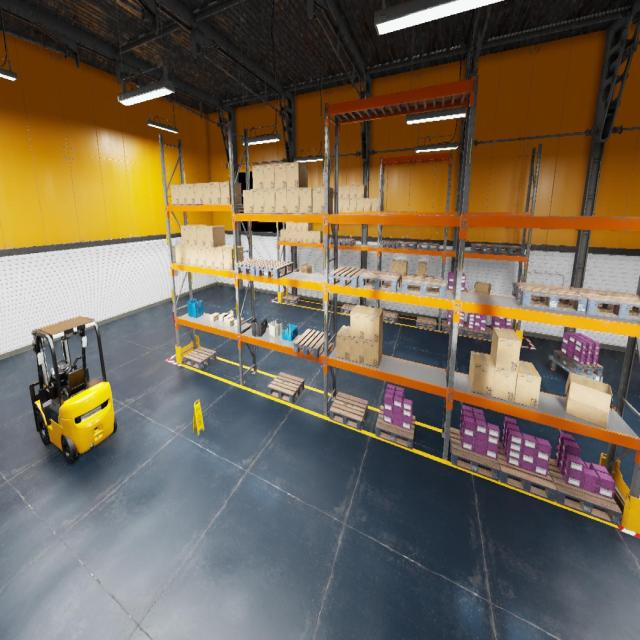box: (565, 372, 613, 429), (490, 327, 521, 372), (514, 361, 541, 408), (490, 355, 517, 402), (468, 351, 494, 396), (364, 307, 383, 342), (350, 305, 369, 339), (364, 333, 382, 368), (286, 162, 308, 188), (312, 187, 333, 213), (220, 181, 242, 204), (336, 325, 350, 360), (223, 246, 243, 270), (204, 226, 225, 247), (196, 225, 215, 246), (214, 246, 232, 268), (349, 337, 364, 363), (180, 224, 199, 244), (188, 226, 205, 246), (299, 188, 312, 214), (275, 188, 287, 214), (287, 188, 299, 213), (274, 163, 286, 188), (263, 164, 275, 189), (252, 165, 263, 189), (264, 189, 275, 213), (242, 190, 254, 212), (253, 190, 264, 212), (474, 281, 491, 294), (210, 182, 220, 204), (185, 184, 196, 204), (205, 247, 215, 267), (202, 182, 211, 204), (194, 183, 203, 205), (170, 184, 179, 204), (178, 184, 186, 204), (198, 246, 206, 266), (190, 245, 198, 265), (182, 244, 190, 264), (175, 243, 183, 263), (398, 260, 408, 276), (418, 262, 427, 276), (390, 260, 400, 272), (357, 185, 366, 198), (224, 310, 233, 322), (300, 264, 312, 273), (314, 230, 322, 243), (371, 198, 379, 211), (356, 198, 364, 211), (342, 185, 350, 198), (408, 274, 417, 285), (426, 275, 434, 287), (308, 230, 316, 242), (364, 198, 371, 211), (349, 198, 356, 211), (349, 185, 356, 198), (226, 317, 235, 327), (210, 312, 219, 321), (219, 312, 228, 321), (234, 318, 244, 326), (343, 198, 349, 211), (302, 230, 308, 242), (280, 229, 286, 241), (302, 223, 312, 230), (338, 185, 343, 198), (401, 274, 407, 284), (297, 230, 302, 242), (291, 231, 297, 241), (286, 230, 291, 241), (338, 198, 342, 211), (291, 222, 296, 230), (297, 223, 302, 230), (286, 222, 290, 230), (333, 198, 334, 211)
forklift: (31, 316, 117, 463)
pallets: (548, 458, 622, 526), (497, 443, 557, 501), (449, 427, 500, 481), (568, 286, 640, 321), (512, 282, 587, 314), (375, 406, 415, 450), (329, 392, 368, 430), (553, 350, 603, 375), (268, 372, 304, 403), (293, 329, 330, 358), (402, 275, 446, 298), (359, 270, 402, 292), (329, 266, 367, 287), (183, 347, 216, 369), (256, 260, 294, 278), (234, 258, 272, 275), (464, 324, 488, 339), (442, 320, 464, 335), (495, 244, 525, 254), (416, 316, 436, 330), (470, 243, 498, 252), (383, 310, 398, 323), (396, 240, 417, 249), (418, 242, 439, 251), (282, 295, 300, 304), (341, 303, 355, 314), (380, 240, 398, 248), (338, 238, 355, 246), (446, 286, 468, 292), (324, 238, 341, 244), (486, 327, 492, 340), (287, 268, 299, 271)
